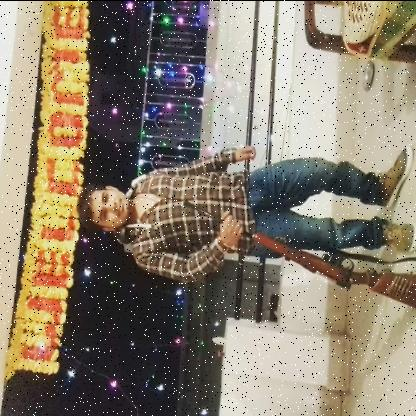rifle: (178, 195, 416, 308)
